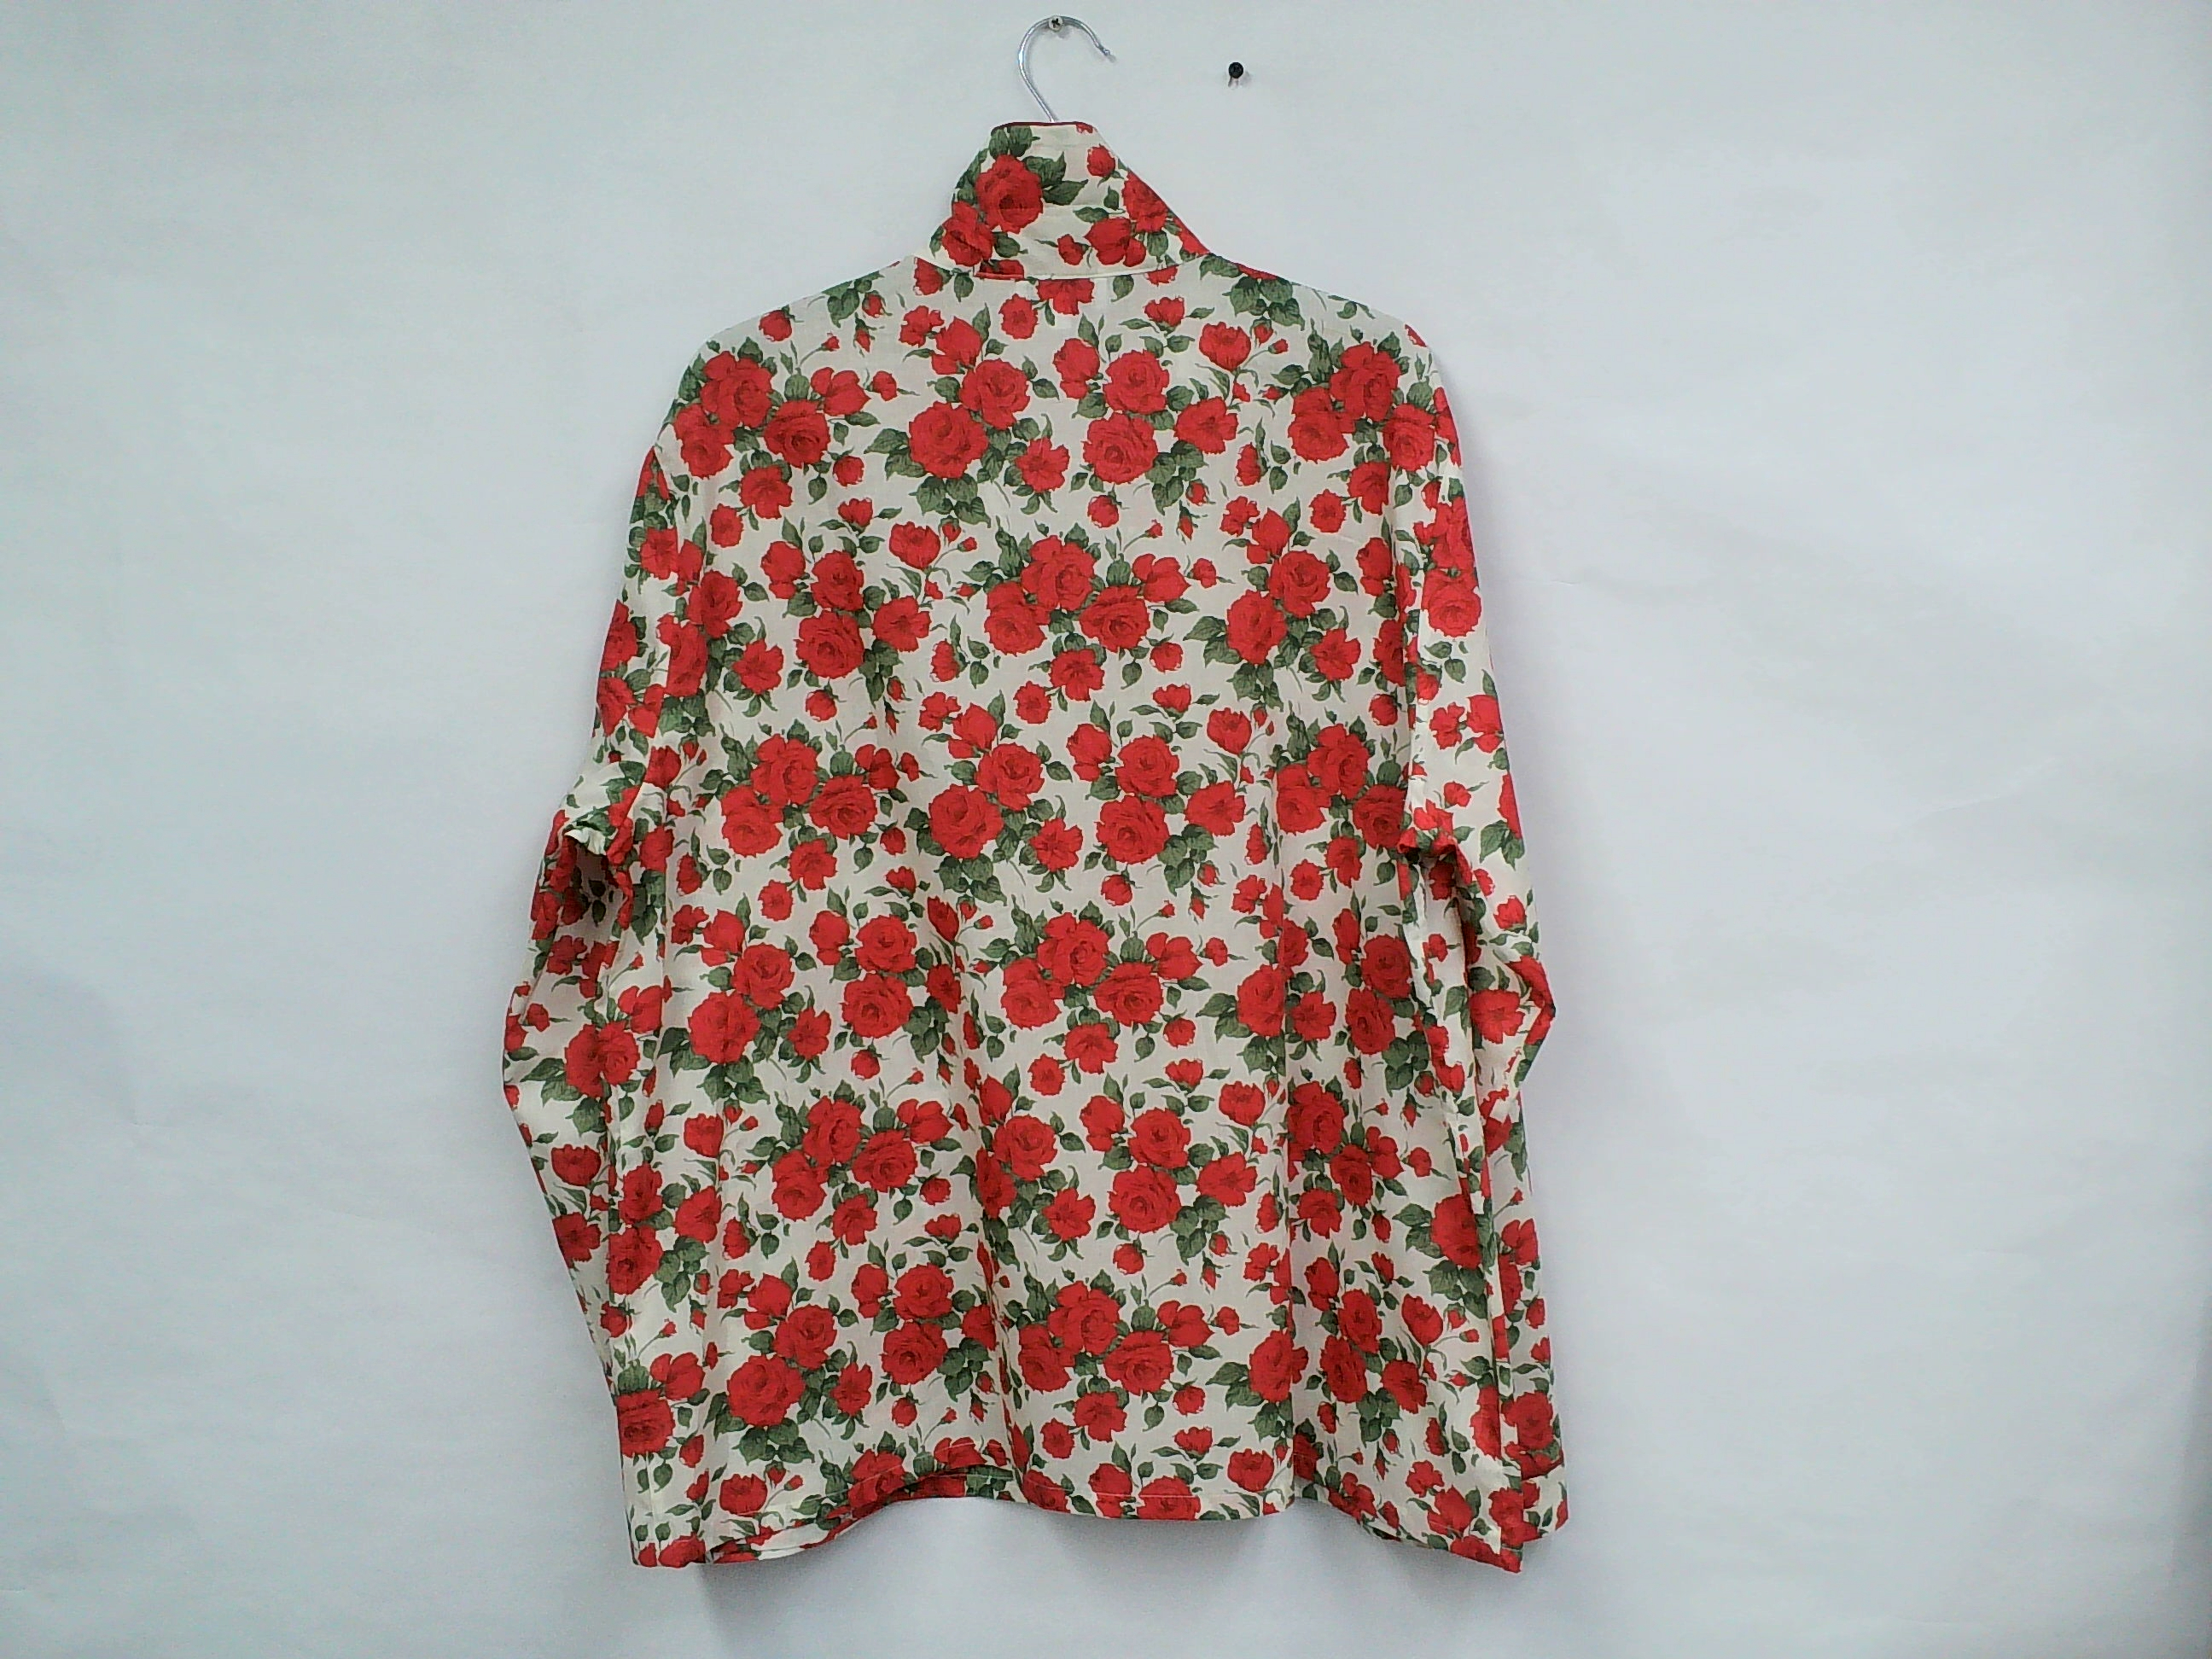wrinkles: (538, 800, 685, 1305)
